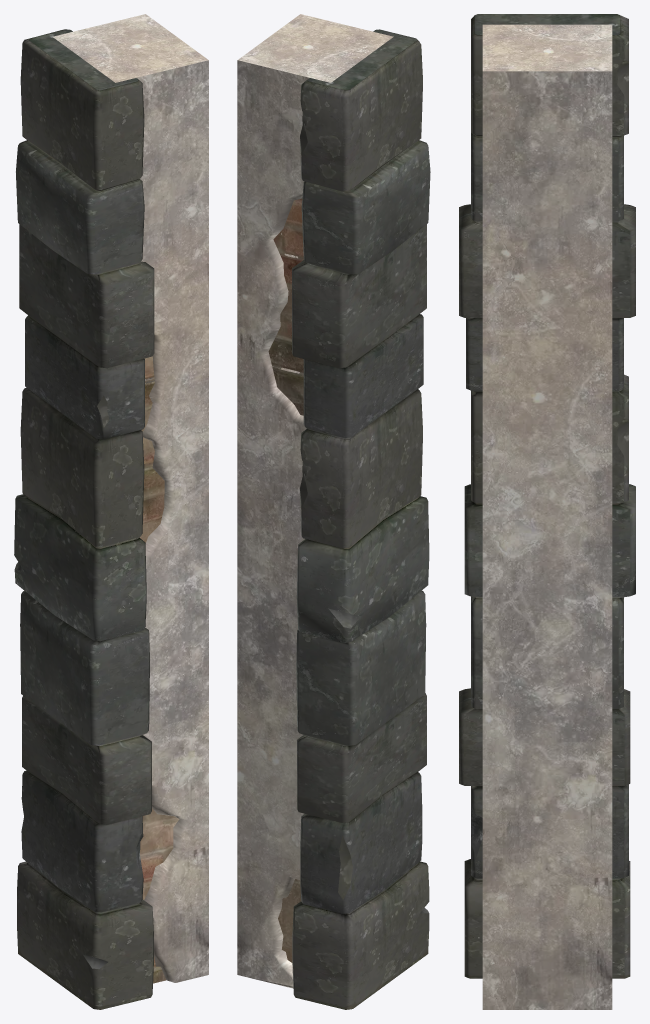
3 renders of one model, left to right at view 1: azimuth 30°, elevation 25°; view 2: azimuth 150°, elevation 25°; view 3: azimuth 270°, elevation 25°, orthographic. The views are drawn at different scales.
Parts seen in each view (by area): view 1: SM_Human_Ruins_Arch_Part_01v1_LOD0; view 2: SM_Human_Ruins_Arch_Part_01v1_LOD0; view 3: SM_Human_Ruins_Arch_Part_01v1_LOD0.
Part boxes in pixels (x1,y1,x2,y2): SM_Human_Ruins_Arch_Part_01v1_LOD0: [14, 14, 208, 1009]; SM_Human_Ruins_Arch_Part_01v1_LOD0: [237, 14, 430, 1009]; SM_Human_Ruins_Arch_Part_01v1_LOD0: [459, 14, 635, 1009].
Size of the model in its own units: 0.5802 by 4 by 0.6831.
Materials: 3 (3 with a texture image).
